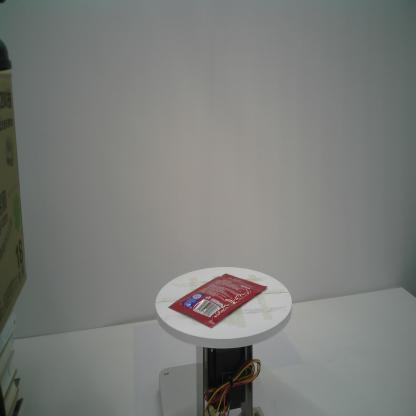Seasoner: (167, 273, 268, 329)
